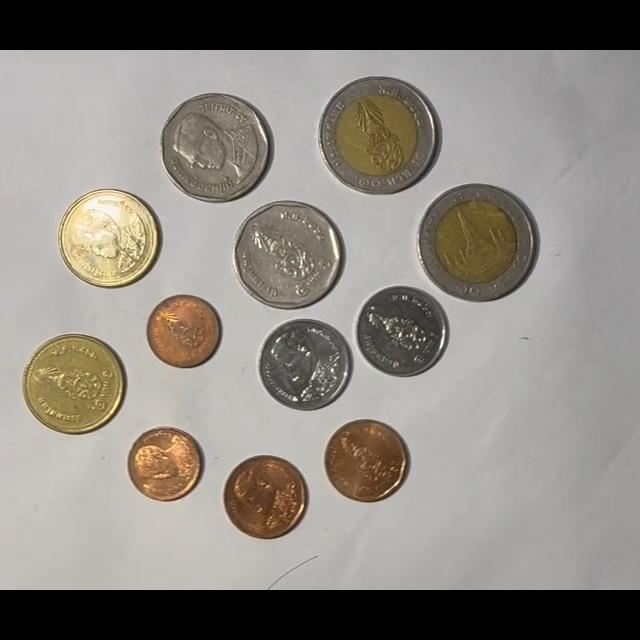1-baht: (356, 285, 449, 378), (257, 319, 351, 411)
10-baht: (318, 76, 440, 196), (417, 184, 538, 302)
2-baht: (23, 334, 125, 435), (58, 189, 159, 290)
25-satang: (127, 427, 204, 502), (146, 294, 221, 368)
5-baht: (160, 92, 273, 204), (233, 200, 345, 310)
50-satang: (222, 455, 308, 540), (323, 419, 409, 503)
